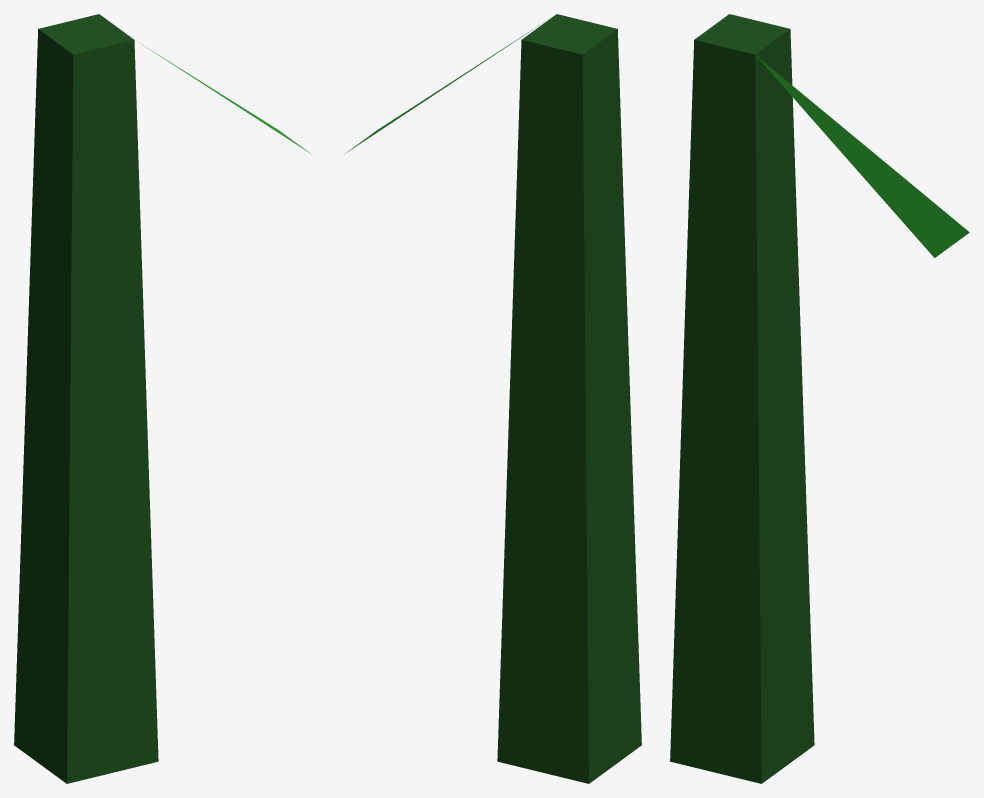
Rendered from borderpost_mayan.obj.
The picture shows the model from 3 angles, left to right: view 1: azimuth 30°, elevation 25°; view 2: azimuth 150°, elevation 25°; view 3: azimuth 330°, elevation 25°; orthographic projection.
Parts seen in each view (by area): view 1: borderpost; view 2: borderpost; view 3: borderpost.
Part boxes in pixels (x1=…): borderpost: x1=14, y1=14, x2=310, y2=783; borderpost: x1=345, y1=14, x2=641, y2=783; borderpost: x1=670, y1=14, x2=969, y2=783.
Bounding box in the file's own units: 0.67 × 1.8 × 0.24.
